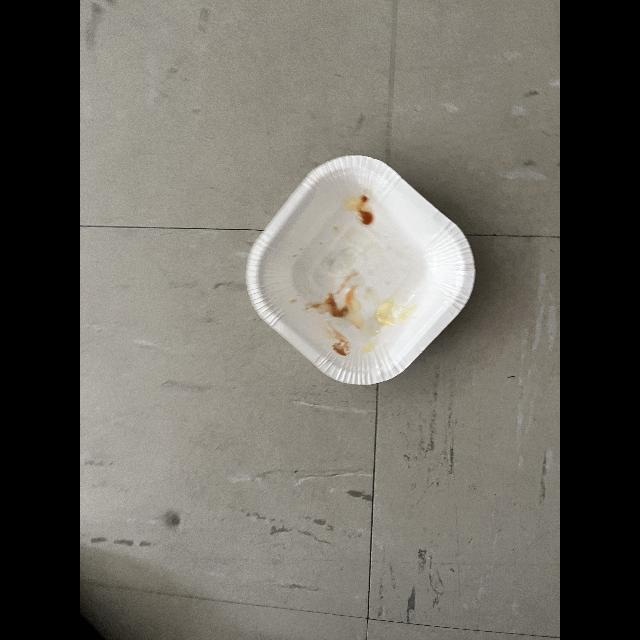cardboard_bowl: (233, 150, 483, 380)
